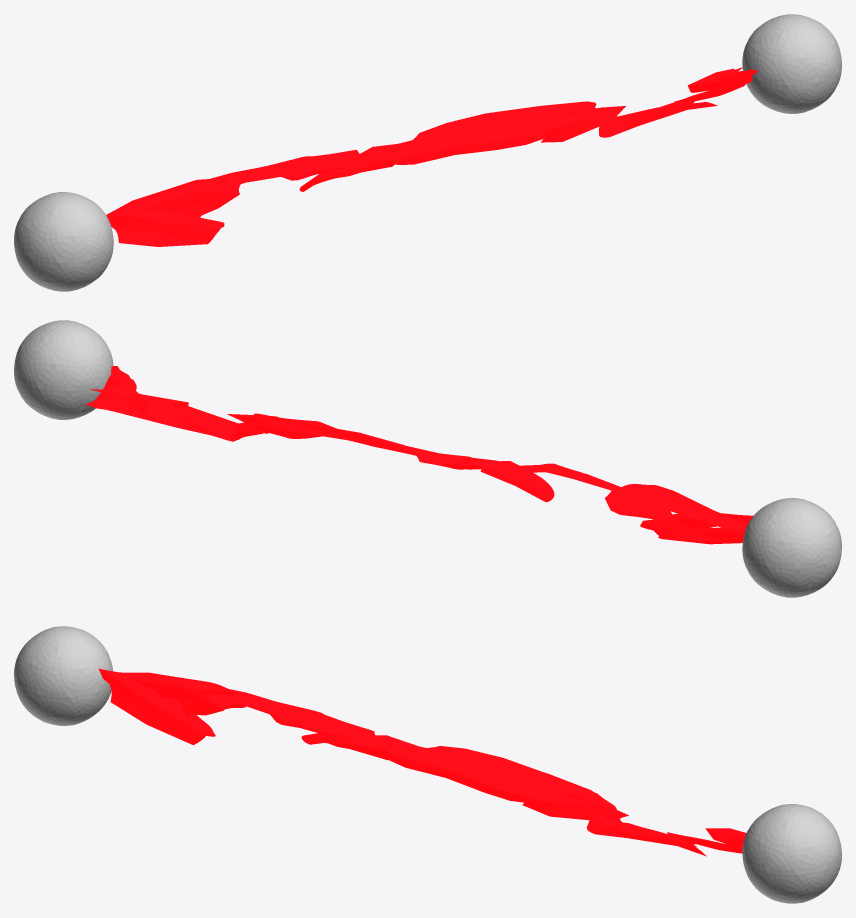
File: chock.fbx
The picture shows the model from 3 angles, top to bottom: view 1: azimuth 30°, elevation 25°; view 2: azimuth 150°, elevation 25°; view 3: azimuth 330°, elevation 25°; orthographic projection.
Parts seen in each view (by area): view 1: Circle, Icosphere, Icosphere.001; view 2: Circle, Icosphere, Icosphere.001; view 3: Circle, Icosphere.001, Icosphere.
Boxes of the visible parts, x1,y1,x2,y2 form: Circle: (106, 67, 757, 246); Icosphere: (14, 192, 113, 291); Icosphere.001: (742, 14, 841, 113); Circle: (85, 366, 753, 544); Icosphere: (742, 498, 841, 597); Icosphere.001: (14, 320, 113, 419); Circle: (98, 668, 746, 856); Icosphere.001: (742, 804, 841, 903); Icosphere: (14, 626, 112, 725).
Size of the model in its own units: 352 by 37.63 by 37.55.
